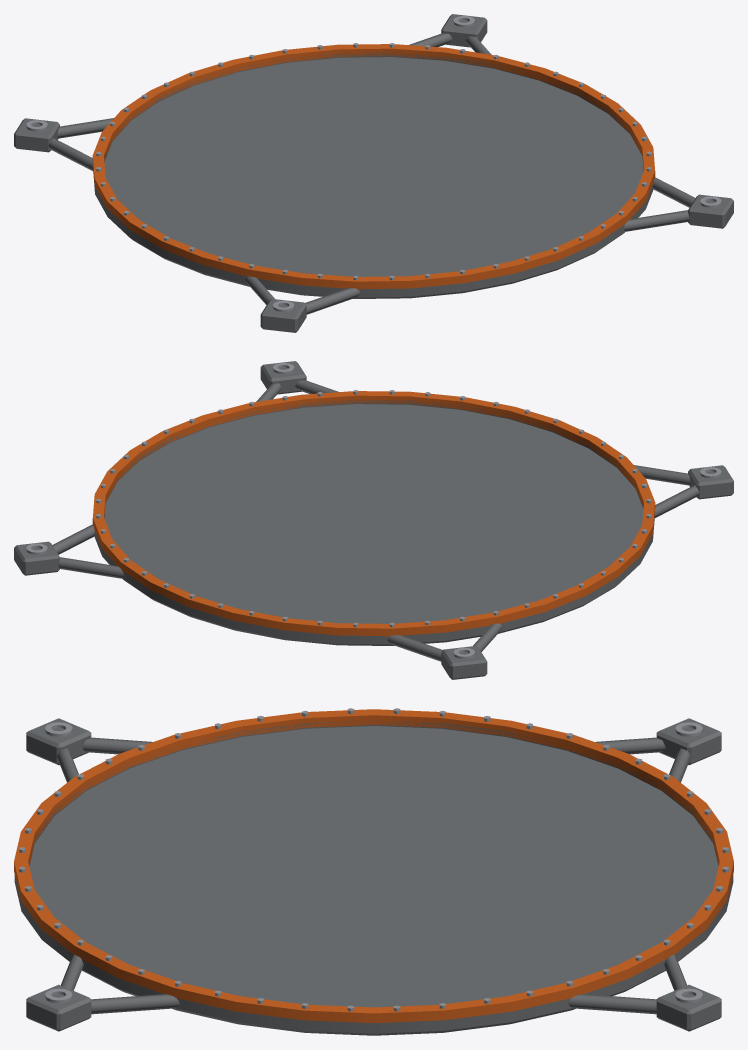
File: tz12_structure.obj
3 renders of one model, top to bottom at view 1: azimuth 30°, elevation 25°; view 2: azimuth 150°, elevation 25°; view 3: azimuth 270°, elevation 25°, orthographic. The views are drawn at different scales.
Parts seen in each view (by area): view 1: tz12_structure; view 2: tz12_structure; view 3: tz12_structure.
Part boxes in pixels (x1=…): tz12_structure: x1=14, y1=14, x2=733, y2=332; tz12_structure: x1=14, y1=361, x2=733, y2=679; tz12_structure: x1=14, y1=708, x2=733, y2=1035.
Bounding box in the file's own units: 6.7 × 0.28 × 6.7.
